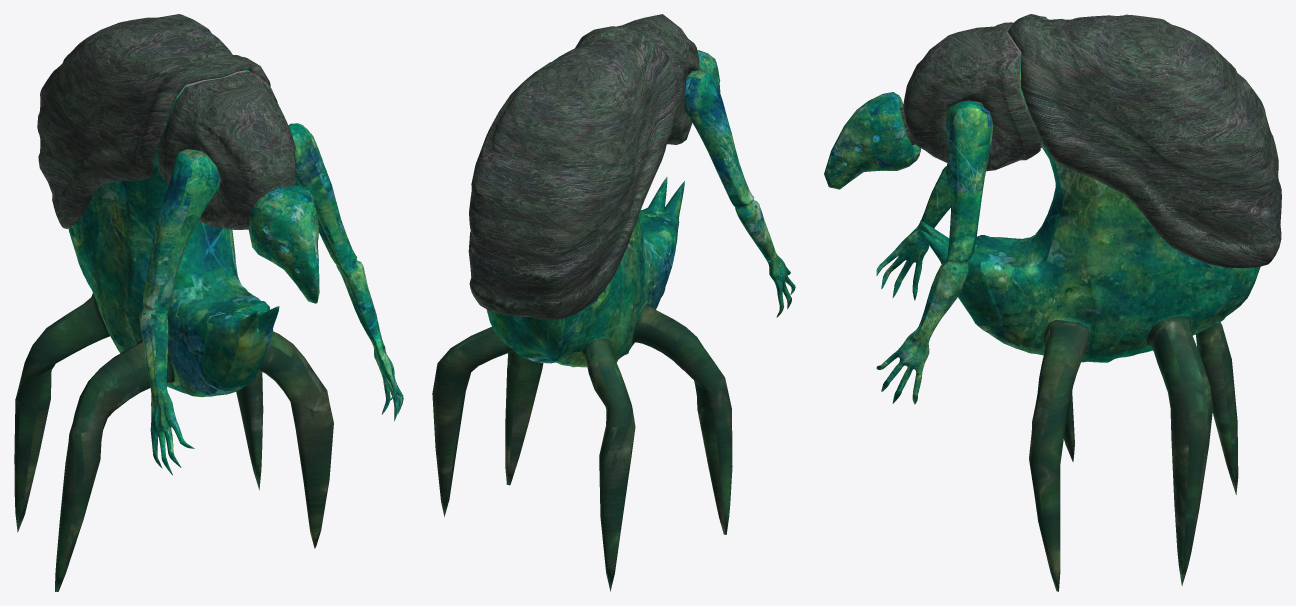
File: Andar.0025.obj
3 views of the same model, side by side, from view 1: azimuth 30°, elevation 25°; view 2: azimuth 150°, elevation 25°; view 3: azimuth 270°, elevation 25° (orthographic). The views are drawn at different scales.
Parts seen in each view (by area): view 1: pCube14; view 2: pCube14; view 3: pCube14.
Boxes of the visible parts, x1,y1,x2,y2 form: pCube14: (14, 14, 403, 591); pCube14: (432, 14, 795, 591); pCube14: (824, 14, 1281, 591).
Bounding box in the file's own units: 2.08 × 3.94 × 3.18.
5 materials, 4 textured.
